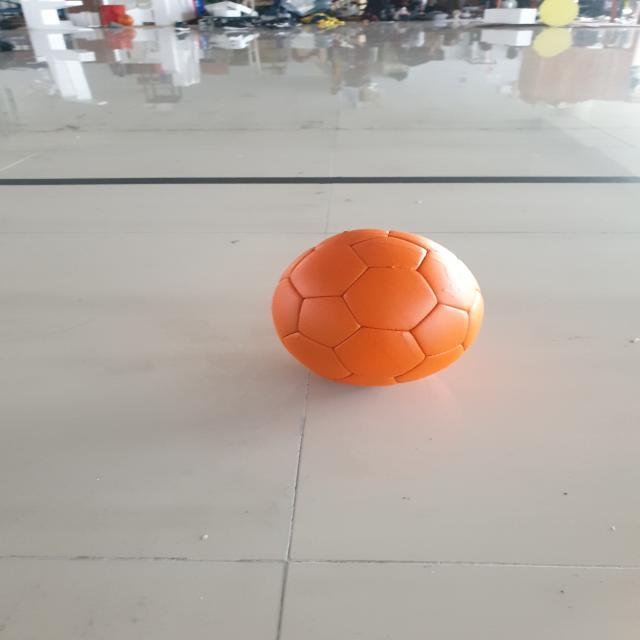bola: (248, 215, 500, 401)
